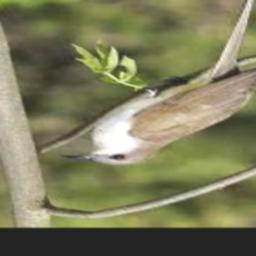Cuckoo: (60, 59, 256, 165)
